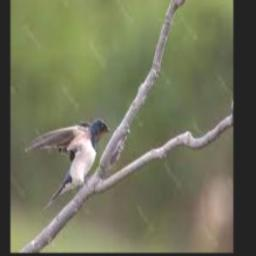Swallow: (25, 118, 111, 210)
